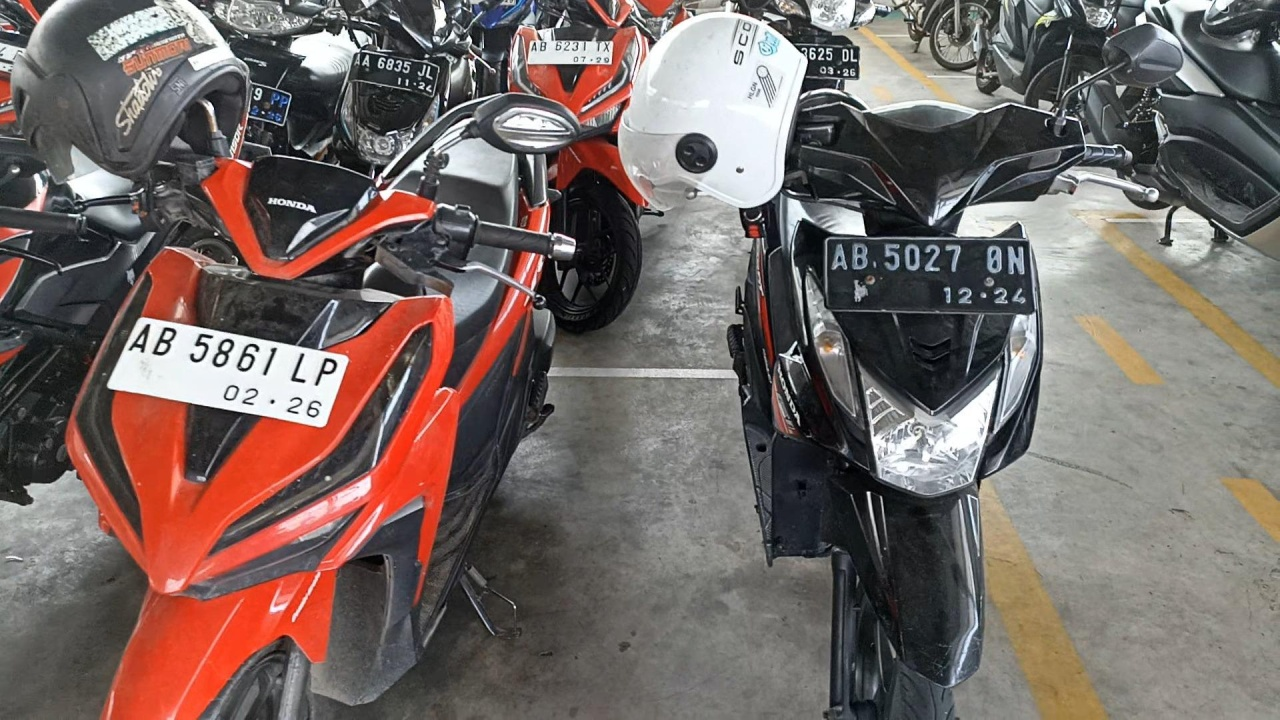plate: (107, 316, 349, 428), (826, 237, 1036, 313), (348, 52, 440, 98), (527, 40, 614, 65)
